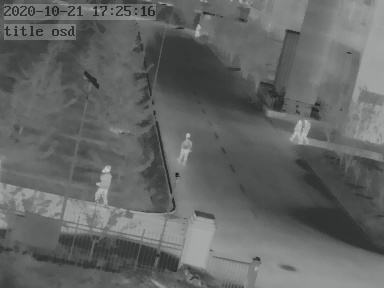person: (94, 164, 111, 208), (180, 132, 193, 164), (290, 119, 302, 142), (302, 118, 311, 144), (194, 22, 201, 38)
